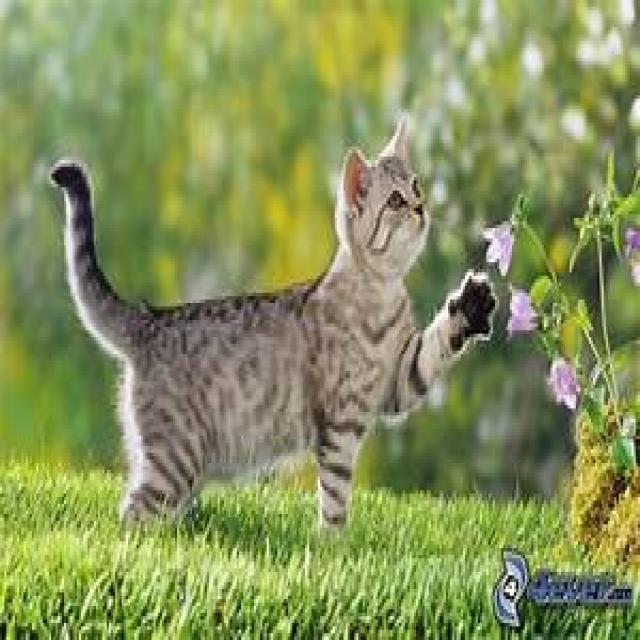animal: (49, 112, 497, 534)
